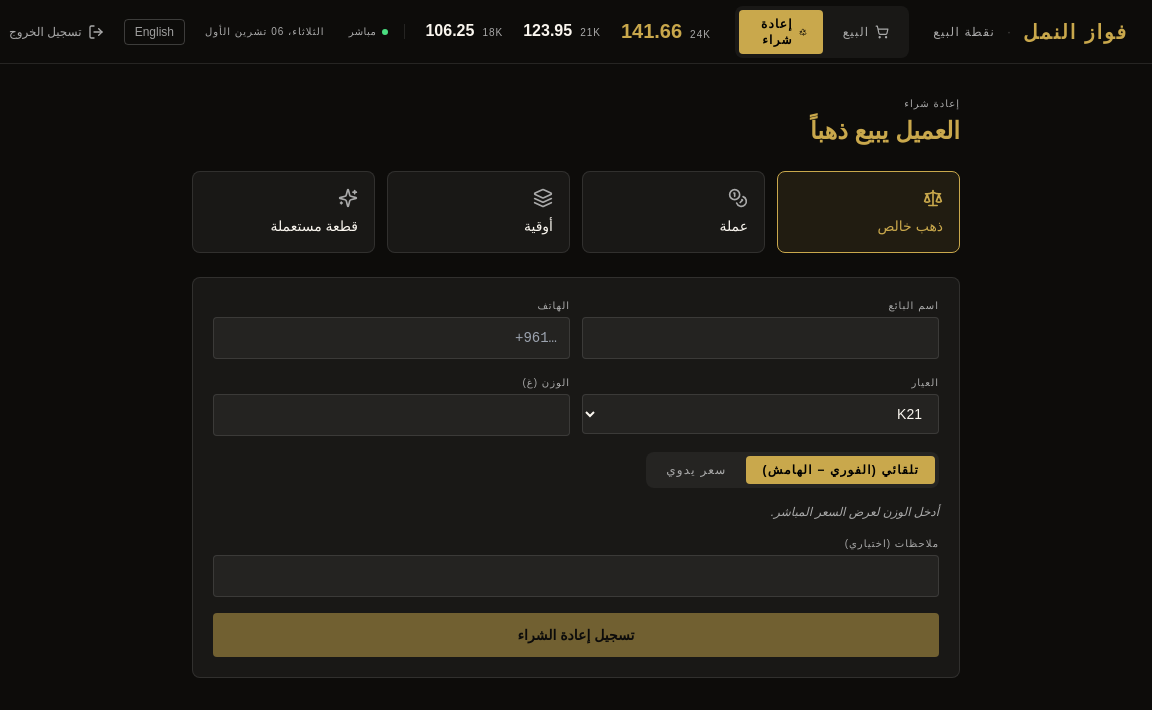
it: POS buyback — labels and i18n (NEX-64) › validation speaks the current language
Step 1. Type "5" into the number field labelled "الوزن (غ)" → (392, 415), box [213,394,570,436]
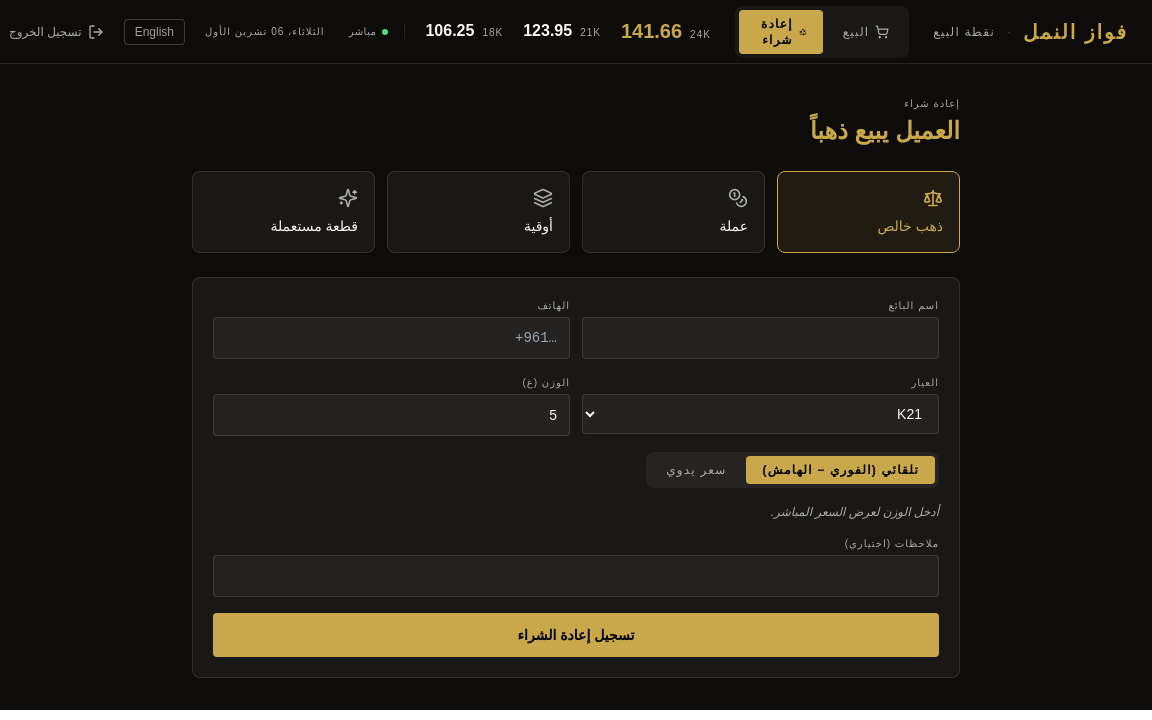
Step 2. Click the button "تسجيل إعادة الشراء" → (576, 635), box [213,613,939,657]
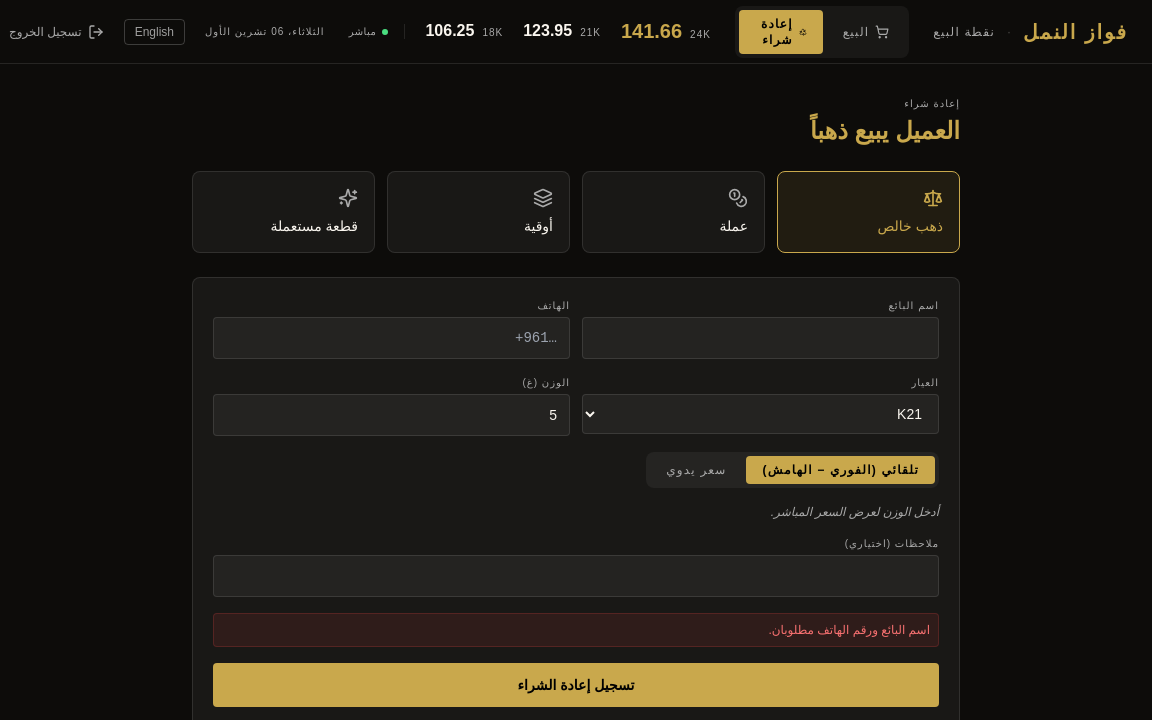
Now the text "اسم البائع ورقم الهاتف مطلوبان." is shown, box [213,613,939,647]
